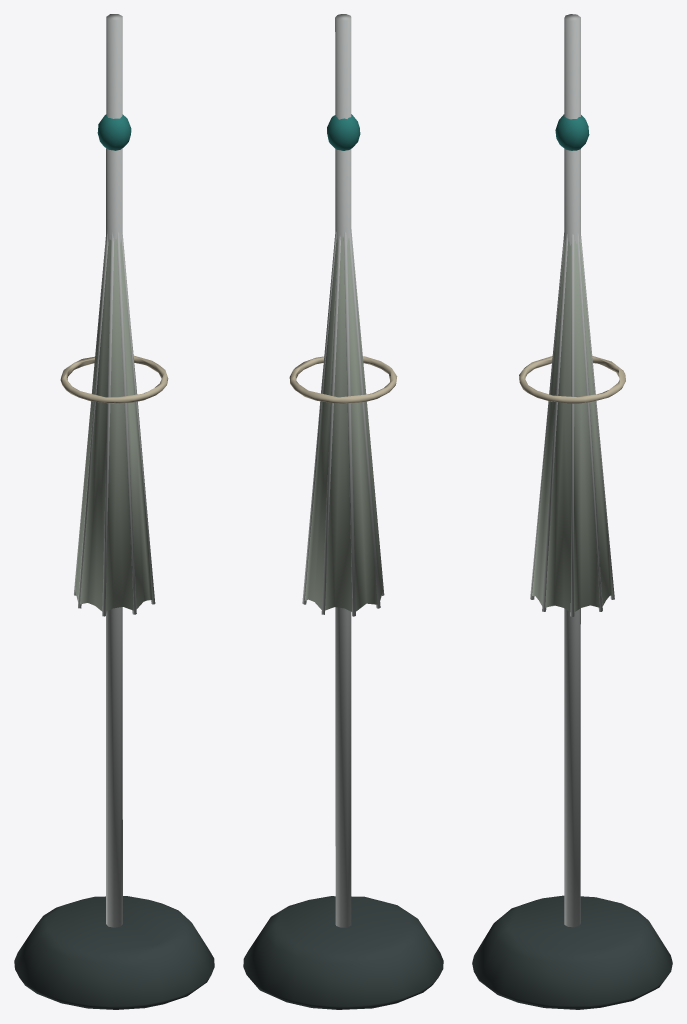
The model's file is du_quan_xep.glb.
3 renders of one model, left to right at view 1: azimuth 30°, elevation 25°; view 2: azimuth 150°, elevation 25°; view 3: azimuth 270°, elevation 25°, orthographic.
Visible parts, largest first — view 1: du_quan_xep; view 2: du_quan_xep; view 3: du_quan_xep.
Boxes of the visible parts, left/top/right/bottom form: du_quan_xep: left=14, top=14, right=214, bottom=1009; du_quan_xep: left=243, top=14, right=443, bottom=1009; du_quan_xep: left=472, top=14, right=672, bottom=1009.
Bounding box in the file's own units: 0.478 × 2.5 × 0.4778.
